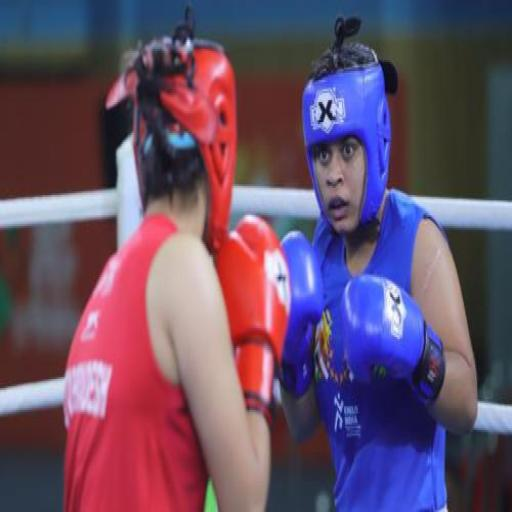boxing: (60, 9, 291, 510), (276, 15, 478, 510)
